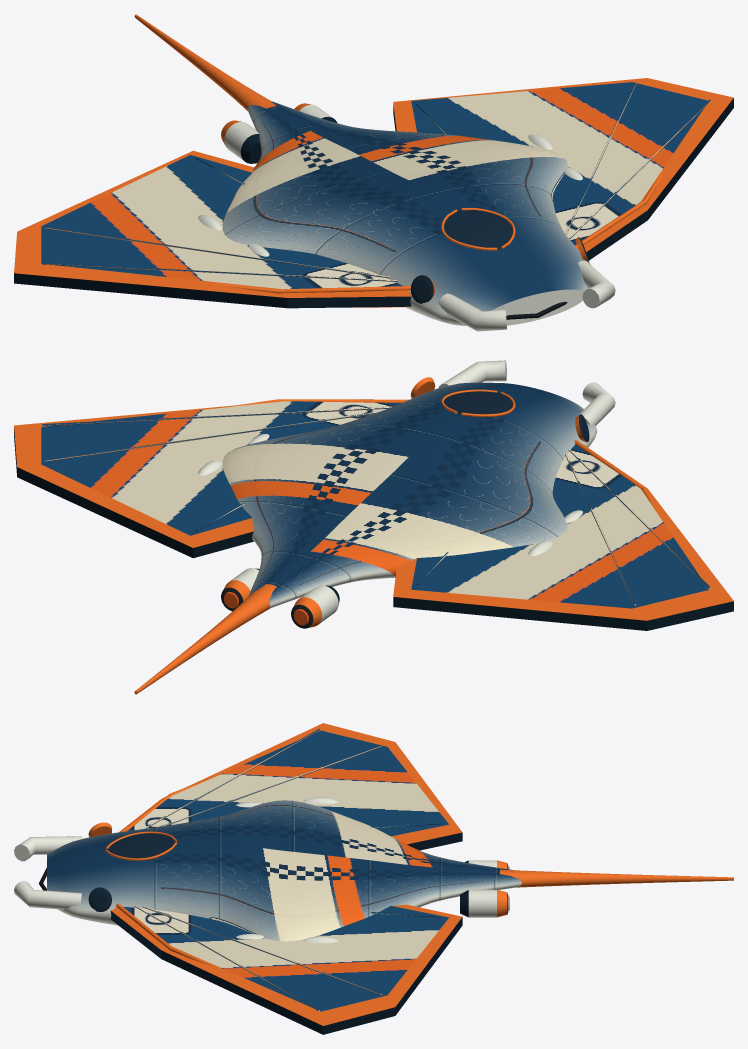
3 renders of one model, top to bottom at view 1: azimuth 30°, elevation 25°; view 2: azimuth 150°, elevation 25°; view 3: azimuth 270°, elevation 25°, orthographic. The views are drawn at different scales.
Parts seen in each view (by area): view 1: manta_ray_hull; view 2: manta_ray_hull; view 3: manta_ray_hull.
Part boxes in pixels (box(x1,y1,x2,y2)): manta_ray_hull: box(14, 14, 733, 331); manta_ray_hull: box(14, 360, 733, 694); manta_ray_hull: box(14, 723, 733, 1034).
Bounding box in the file's own units: 81.66 × 9.18 × 82.
1 material, 1 textured.
